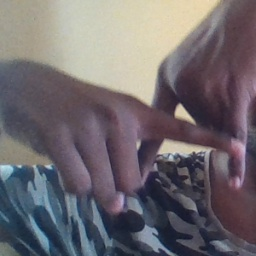H: (117, 53, 255, 201)
